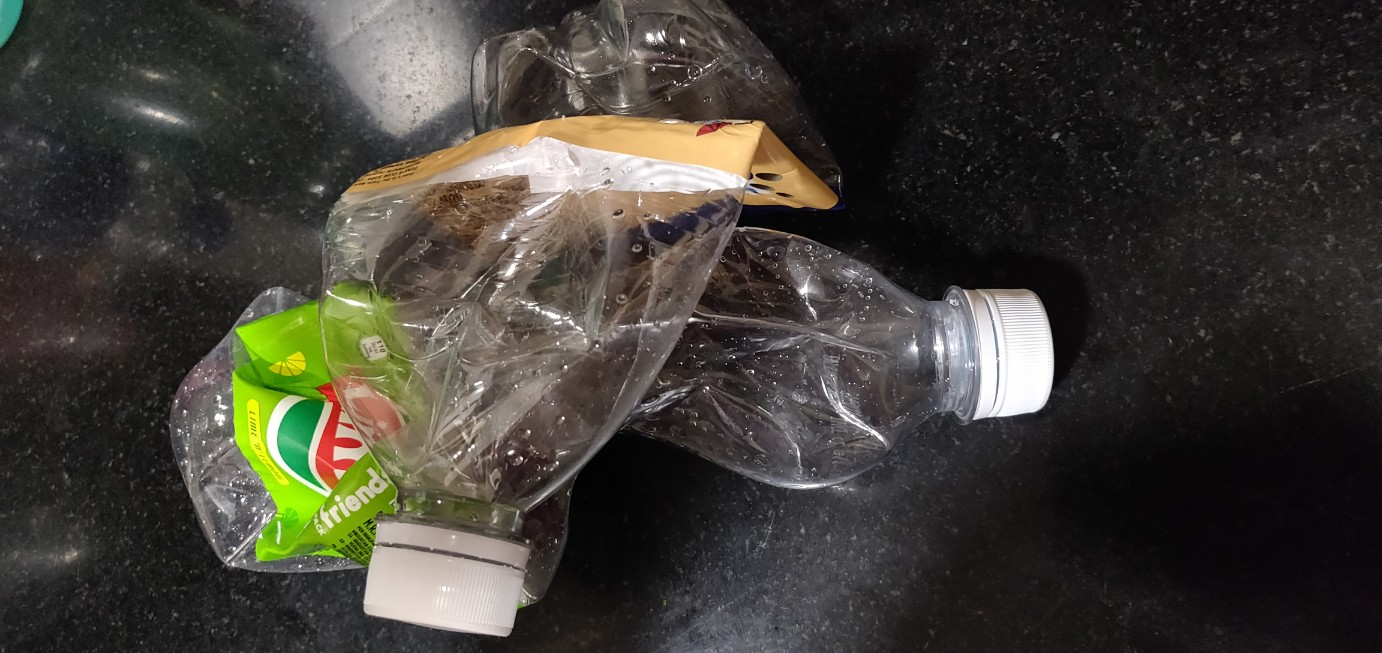Electronics: (135, 173, 1119, 613), (301, 2, 842, 645)
